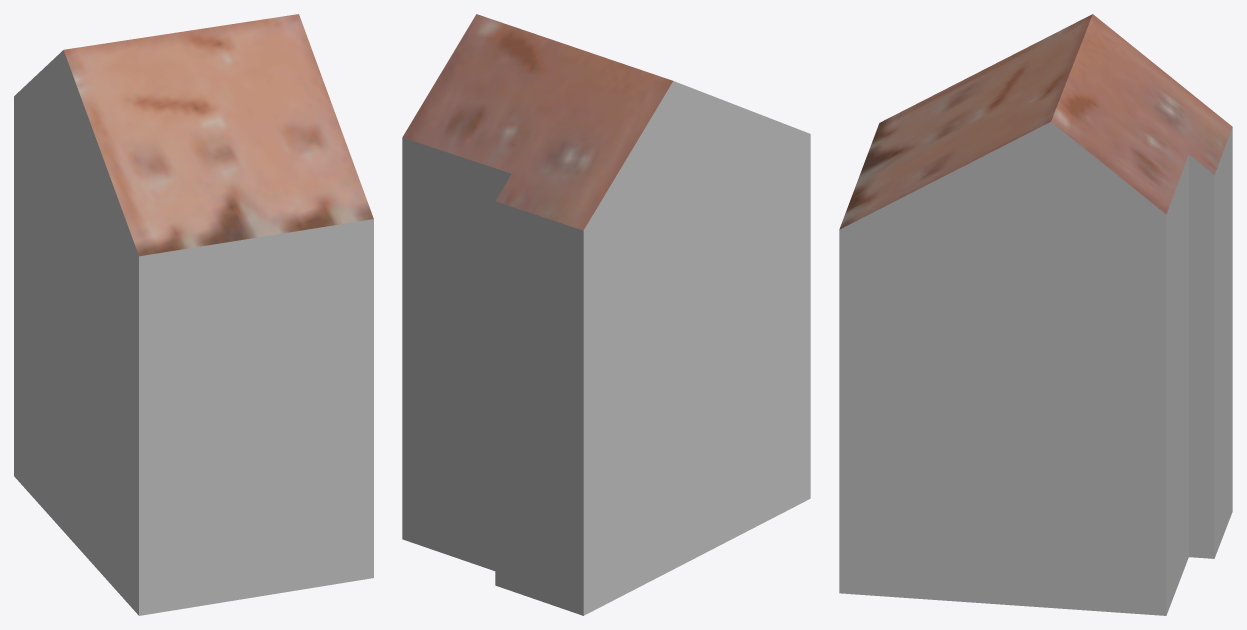
File: DEBW_0010007TxaM.gltf
The picture shows the model from 3 angles, left to right: view 1: azimuth 30°, elevation 25°; view 2: azimuth 150°, elevation 25°; view 3: azimuth 270°, elevation 25°; orthographic projection.
Visible parts, largest first — view 1: Z_UP; view 2: Z_UP; view 3: Z_UP.
Part boxes in pixels (<box>): Z_UP: <box>14,14,373,615</box>; Z_UP: <box>402,14,810,615</box>; Z_UP: <box>839,14,1232,615</box>.
Size of the model in its own units: 10.71 by 18.91 by 13.82.
Materials: 2 (1 with a texture image).
